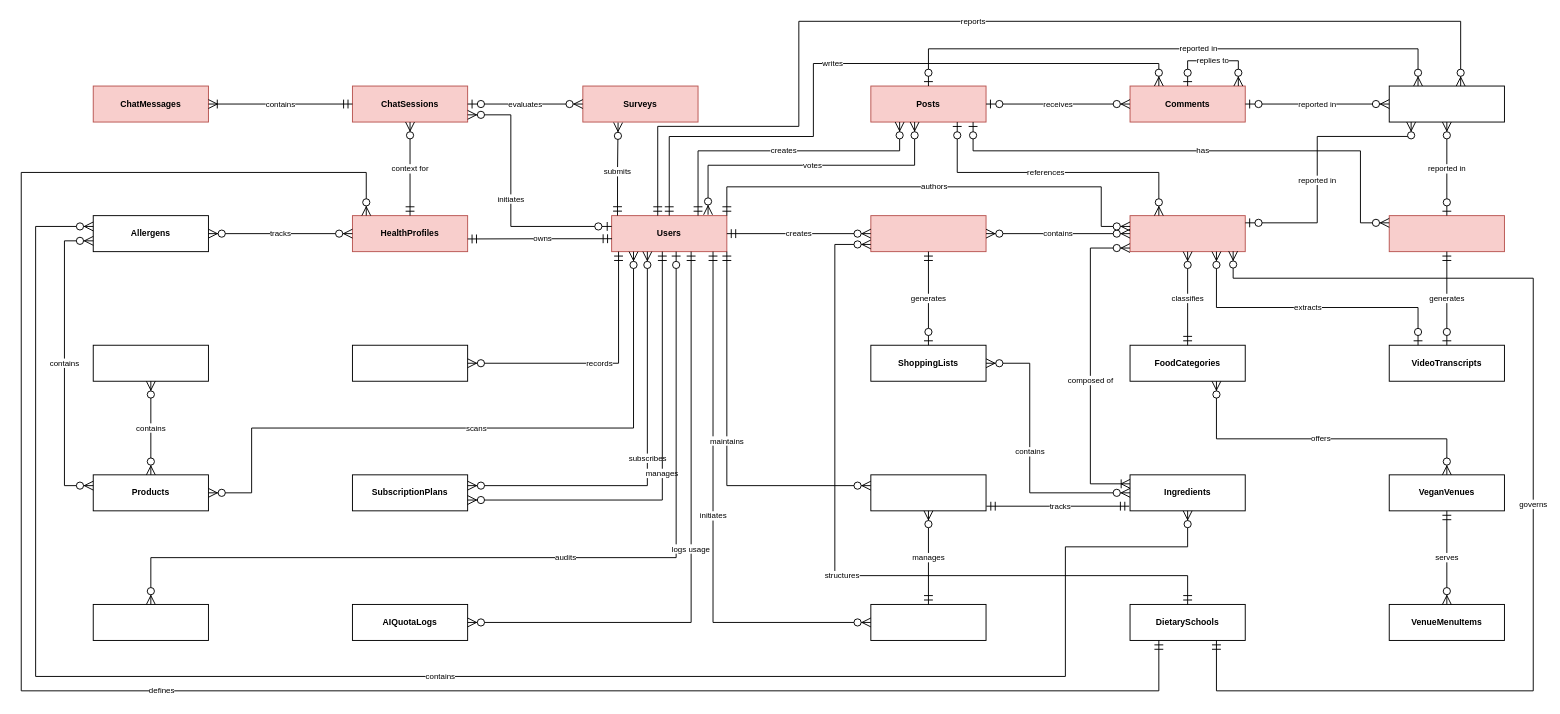
Image size: 1560x714. Some labels were removed from this diagram. Here are the shapes that lost their labels. From the top down, the box of each, then its label:
(1388, 85, 1505, 122): ViolationReports
(870, 215, 986, 252): MealPlans
(1129, 215, 1245, 252): Recipes
(1388, 215, 1505, 252): Videos
(92, 344, 209, 381): ENumberDictionary
(352, 344, 468, 381): UserWeightHistory
(870, 474, 986, 511): FridgeInventory
(92, 604, 209, 641): AuditLogs
(870, 604, 986, 641): FridgeSessions
